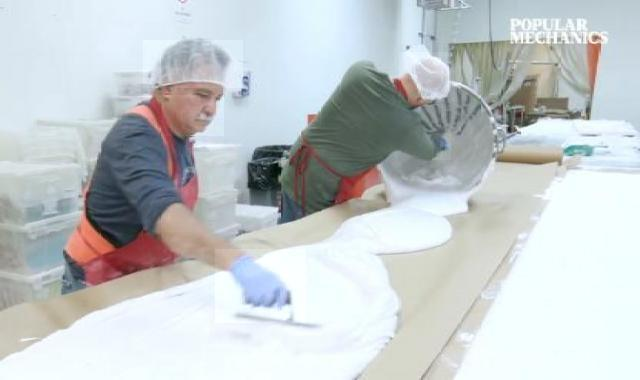apron: (216, 249, 307, 323), (433, 134, 452, 160)
gloves: (143, 40, 243, 88), (399, 52, 461, 102)
no_hairnet: (162, 96, 225, 137)
